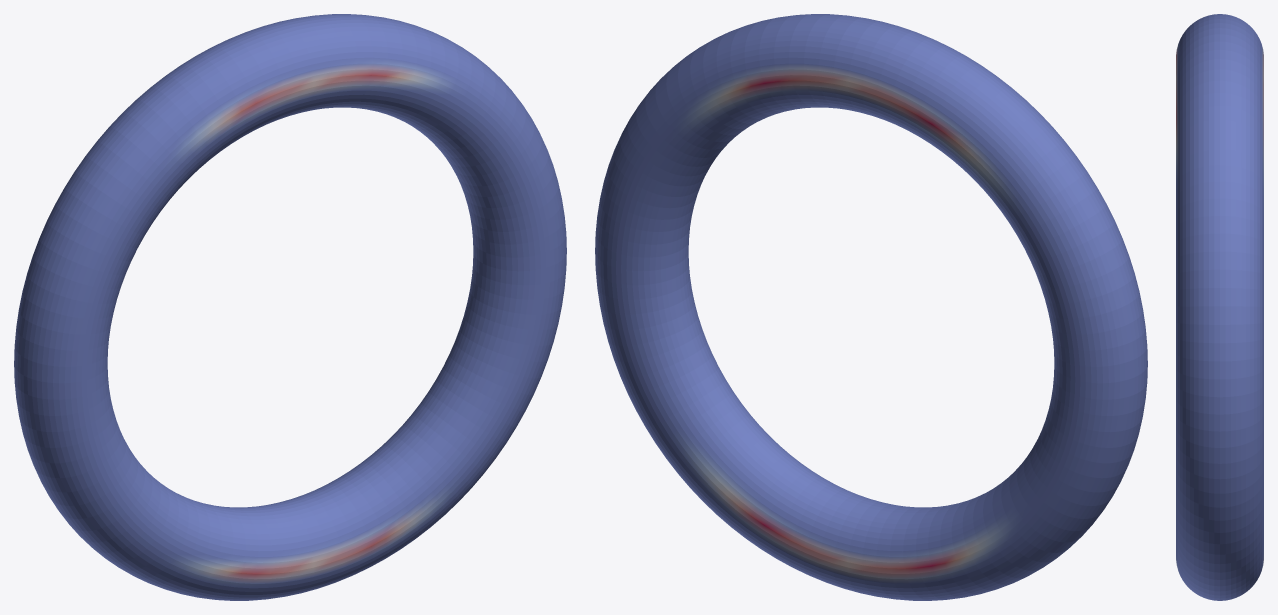
3 renders of one model, left to right at view 1: azimuth 30°, elevation 25°; view 2: azimuth 150°, elevation 25°; view 3: azimuth 270°, elevation 25°, orthographic. The views are drawn at different scales.
Parts seen in each view (by area): view 1: world; view 2: world; view 3: world.
Boxes of the visible parts, x1,y1,x2,y2 form: world: (14,14,566,600); world: (595,14,1147,600); world: (1176,14,1263,600).
Size of the model in its own units: 13.33 by 13.33 by 2.
